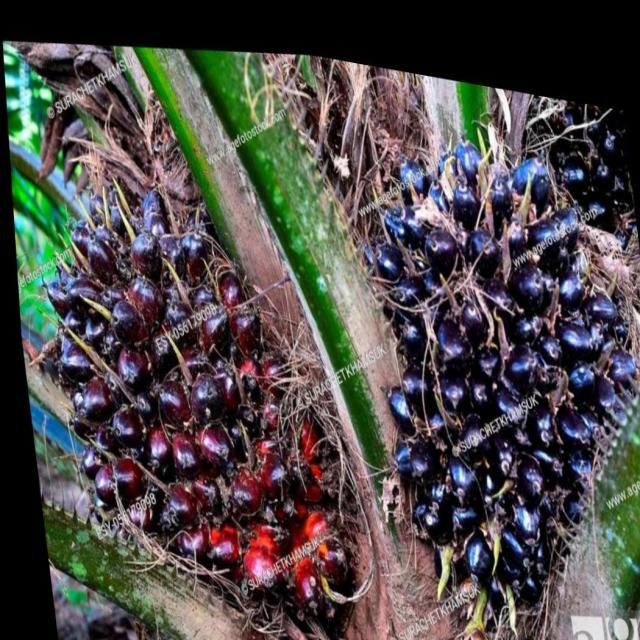Unripe: (345, 84, 640, 640)
